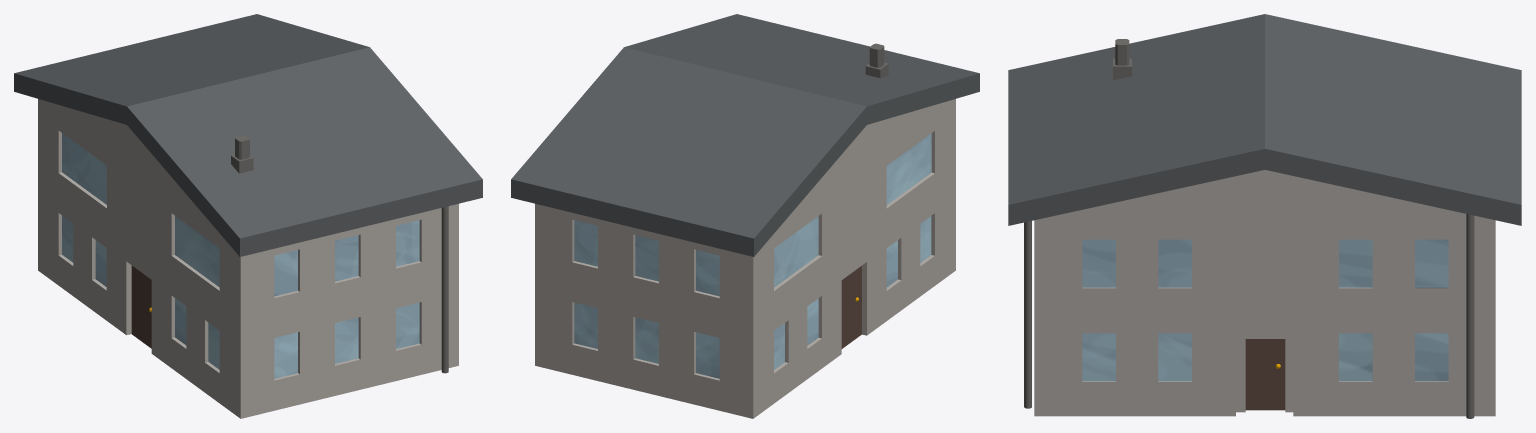
File: TPCS_Hochhouse_002_V1.fbx
The picture shows the model from 3 angles, left to right: view 1: azimuth 30°, elevation 25°; view 2: azimuth 150°, elevation 25°; view 3: azimuth 270°, elevation 25°; orthographic projection. The views are drawn at different scales.
Parts seen in each view (by area): view 1: Cube.211; view 2: Cube.211; view 3: Cube.211.
Boxes of the visible parts, box(x1,y1,x2,y2) form: Cube.211: box(14, 14, 482, 418); Cube.211: box(511, 14, 979, 418); Cube.211: box(1008, 14, 1521, 418).
Bounding box in the file's own units: 622 × 593 × 1002.
